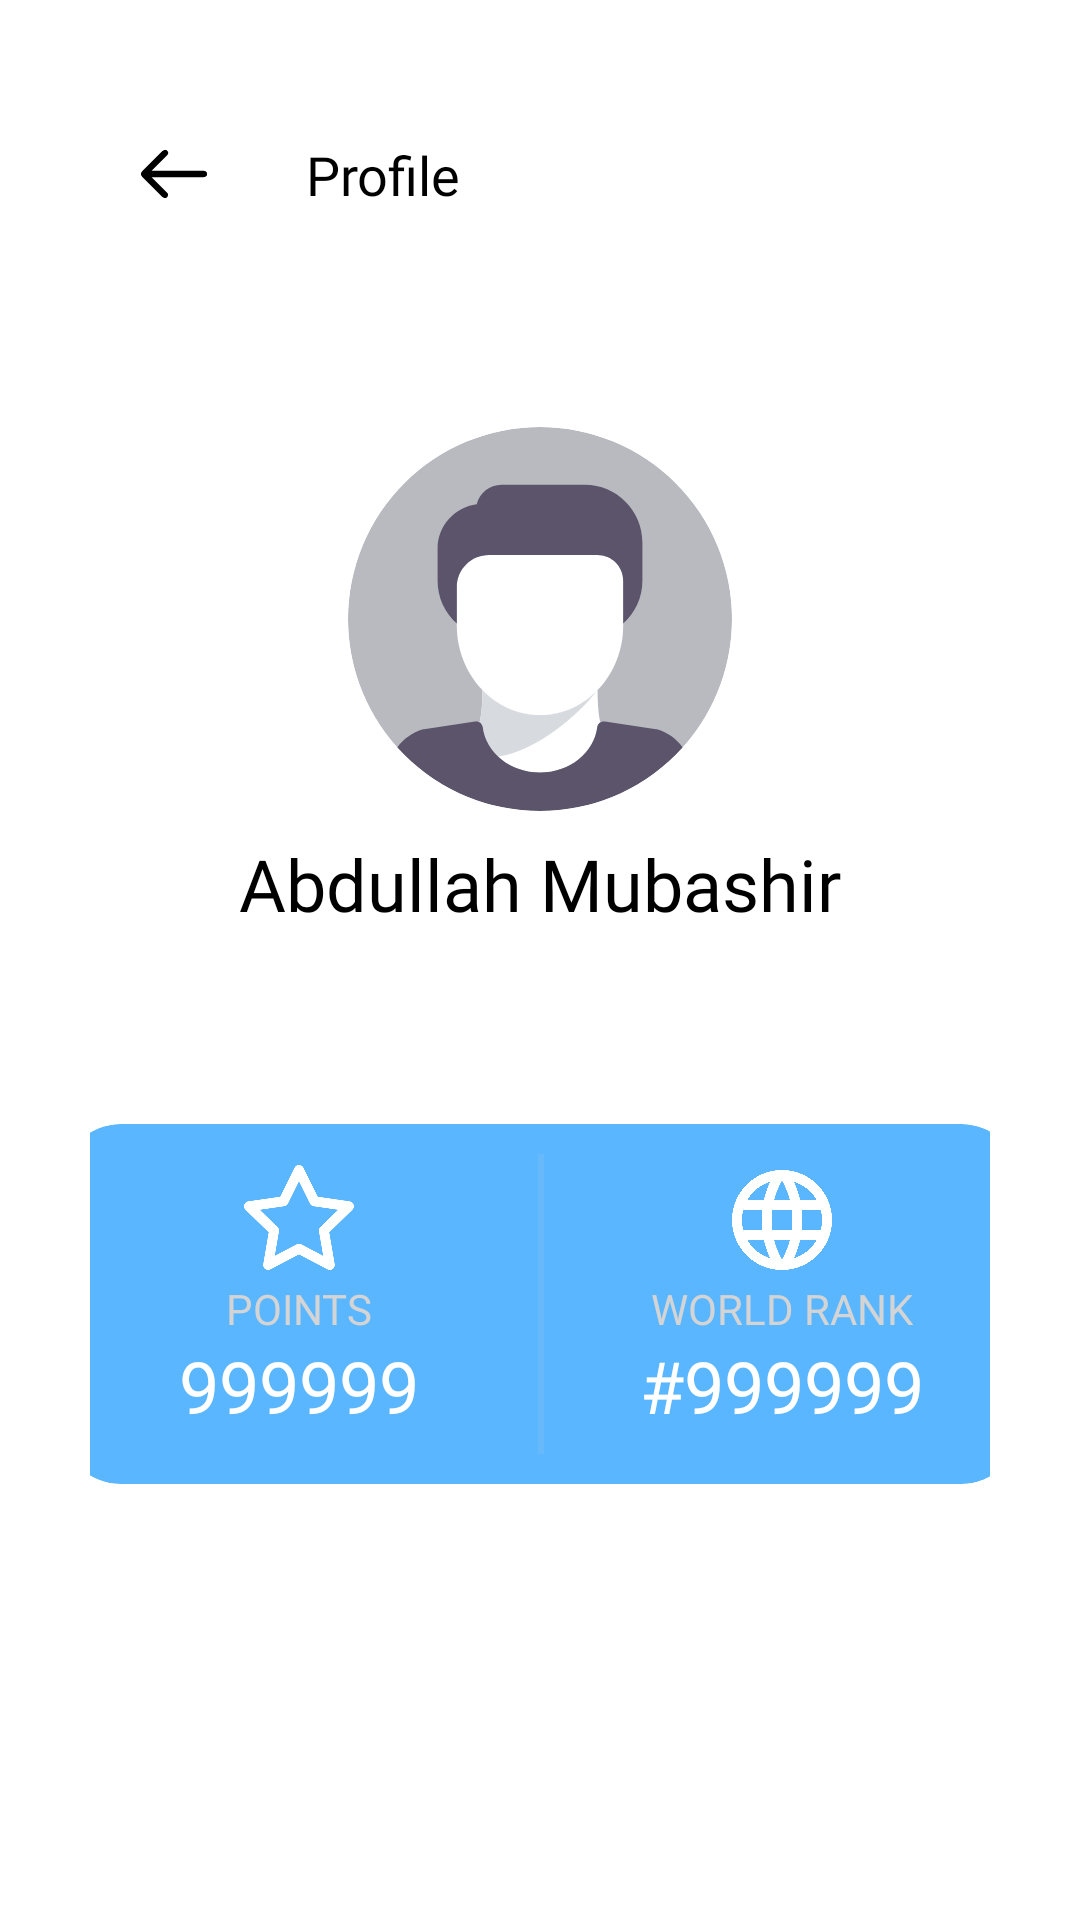

Screen size 1080×1920. Icon name, then its box in pixels as {"left": x1, "top": y1, "right": x2, "bottom": y2}:
back: {"left": 141, "top": 150, "right": 207, "bottom": 198}
